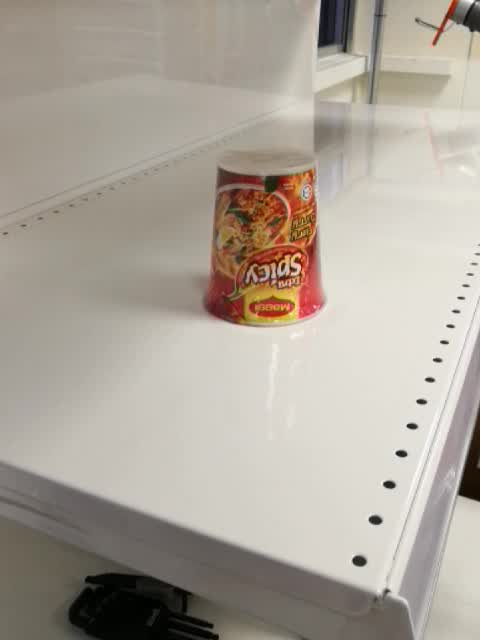maggi: (201, 147, 328, 328)
